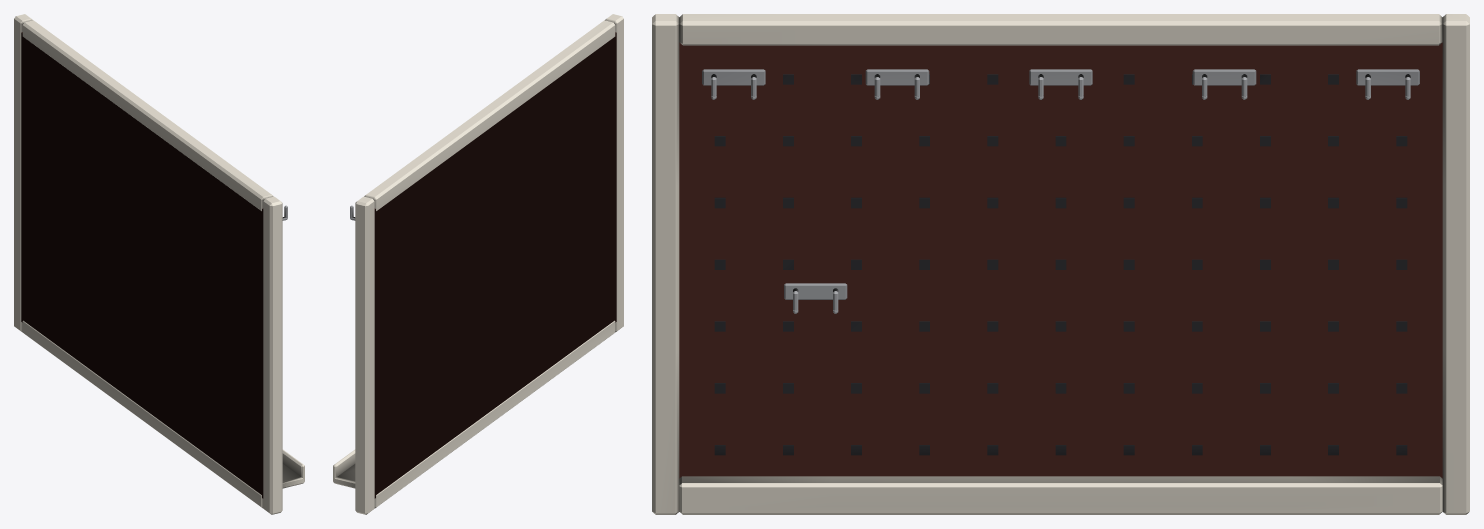
File: nd_pegboard.glb
The picture shows the model from 3 angles, left to right: view 1: azimuth 30°, elevation 25°; view 2: azimuth 150°, elevation 25°; view 3: azimuth 270°, elevation 25°; orthographic projection. The views are drawn at different scales.
Parts seen in each view (by area): view 1: PART; view 2: PART; view 3: PART.
Part boxes in pixels (x1,y1,x2,y2): PART: [14, 14, 304, 514]; PART: [333, 14, 623, 514]; PART: [652, 14, 1469, 514].
Bounding box in the file's own units: 0.0875 × 0.6 × 0.9.
